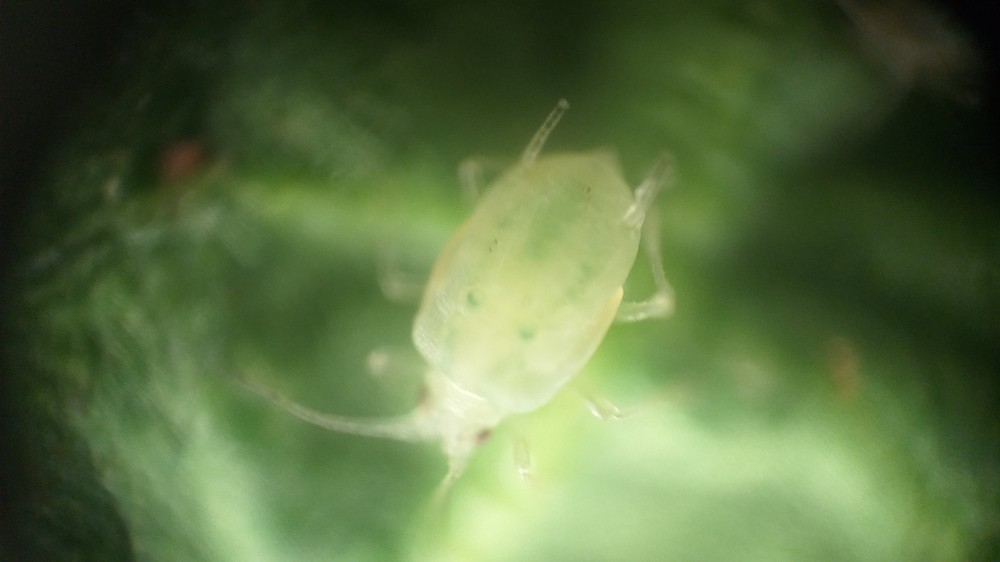Pulgon: (267, 92, 728, 557)
